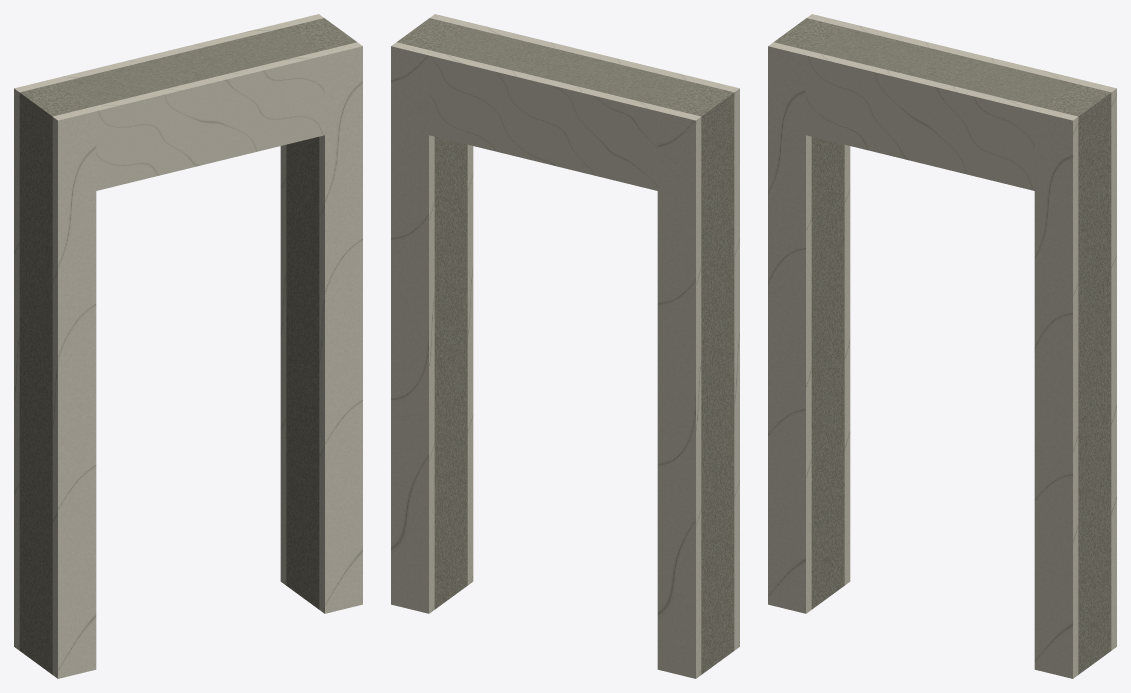
3 renders of one model, left to right at view 1: azimuth 30°, elevation 25°; view 2: azimuth 150°, elevation 25°; view 3: azimuth 330°, elevation 25°, orthographic.
Parts seen in each view (by area): view 1: LOD2__Marble jamb facing, LOD2__Marble jamb facing.002, LOD2__Stone jamb, LOD2__Marble head facing, LOD2__Stone jamb.001, LOD2__Door masonry head, LOD2__Marble jamb facing.001, LOD2__Marble jamb facing.003, LOD2__Marble head facing.001; view 2: LOD2__Marble jamb facing.001, LOD2__Marble jamb facing.003, LOD2__Stone jamb, LOD2__Marble head facing.001, LOD2__Stone jamb.001, LOD2__Door masonry head, LOD2__Marble jamb facing, LOD2__Marble jamb facing.002, LOD2__Marble head facing; view 3: LOD2__Marble jamb facing.002, LOD2__Marble jamb facing, LOD2__Stone jamb.001, LOD2__Marble head facing, LOD2__Stone jamb, LOD2__Door masonry head, LOD2__Marble jamb facing.003, LOD2__Marble jamb facing.001, LOD2__Marble head facing.001.
Part boxes in pixels (bbox=[...]): LOD2__Marble jamb facing: bbox=[52, 107, 96, 678]; LOD2__Marble jamb facing.002: bbox=[319, 42, 362, 613]; LOD2__Stone jamb: bbox=[19, 83, 90, 674]; LOD2__Marble head facing: bbox=[91, 51, 324, 190]; LOD2__Stone jamb.001: bbox=[286, 18, 356, 609]; LOD2__Door masonry head: bbox=[58, 27, 318, 106]; LOD2__Marble jamb facing.001: bbox=[14, 79, 56, 650]; LOD2__Marble jamb facing.003: bbox=[280, 14, 323, 585]; LOD2__Marble head facing.001: bbox=[52, 23, 285, 82]; LOD2__Marble jamb facing.001: bbox=[657, 107, 701, 678]; LOD2__Marble jamb facing.003: bbox=[391, 42, 434, 613]; LOD2__Stone jamb: bbox=[663, 83, 734, 674]; LOD2__Marble head facing.001: bbox=[429, 51, 662, 190]; LOD2__Stone jamb.001: bbox=[397, 18, 467, 609]; LOD2__Door masonry head: bbox=[435, 27, 695, 106]; LOD2__Marble jamb facing: bbox=[697, 79, 739, 650]; LOD2__Marble jamb facing.002: bbox=[430, 14, 473, 585]; LOD2__Marble head facing: bbox=[468, 23, 701, 82]; LOD2__Marble jamb facing.002: bbox=[1034, 107, 1078, 678]; LOD2__Marble jamb facing: bbox=[768, 42, 811, 613]; LOD2__Stone jamb.001: bbox=[1040, 83, 1111, 674]; LOD2__Marble head facing: bbox=[806, 51, 1039, 190]; LOD2__Stone jamb: bbox=[774, 18, 844, 609]; LOD2__Door masonry head: bbox=[812, 27, 1072, 106]; LOD2__Marble jamb facing.003: bbox=[1074, 79, 1116, 650]; LOD2__Marble jamb facing.001: bbox=[807, 14, 850, 585]; LOD2__Marble head facing.001: bbox=[845, 23, 1078, 82].
Size of the model in its own units: 1.6 by 2.8 by 0.4.
2 materials, 2 textured.
